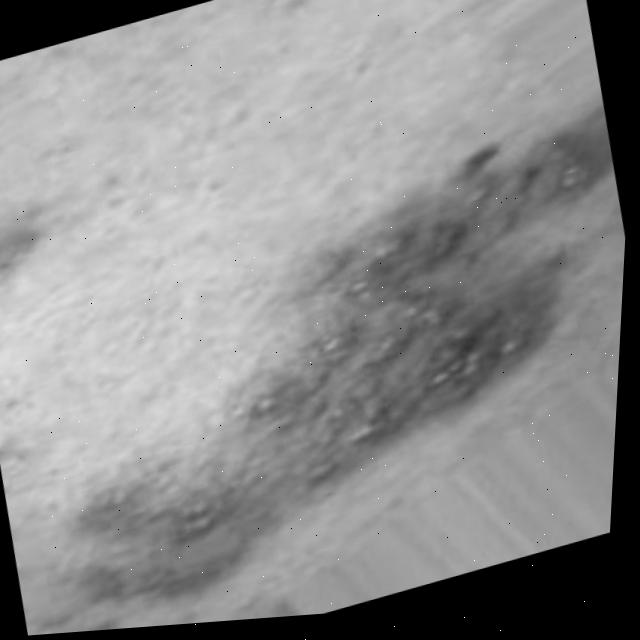Shingles: (20, 97, 633, 636), (0, 186, 46, 300)
